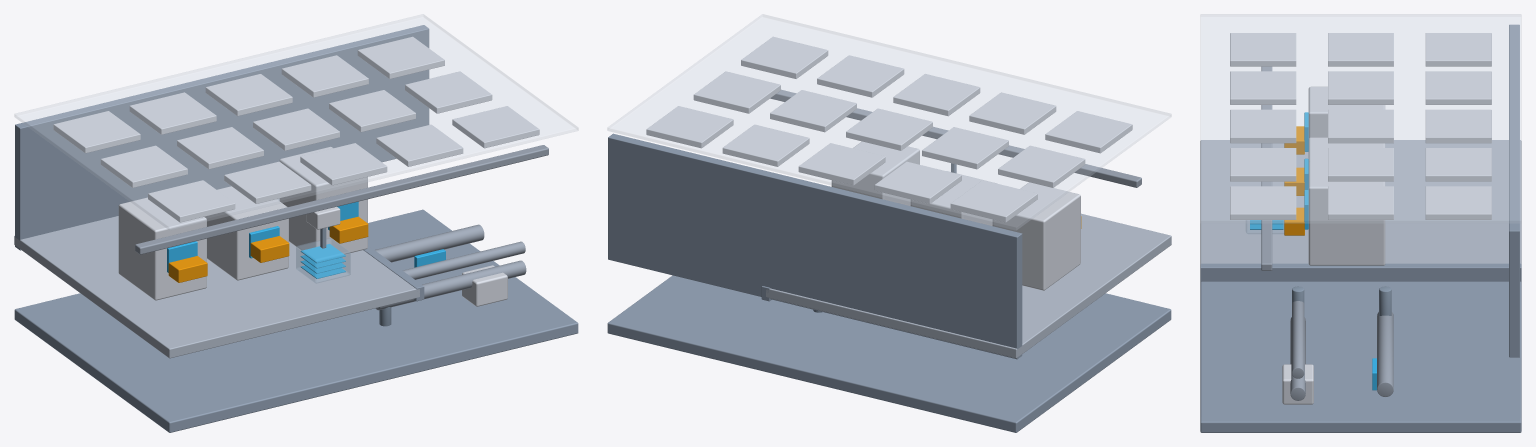
The model's file is fab-section.glb.
3 views of the same model, side by side, from view 1: azimuth 30°, elevation 25°; view 2: azimuth 150°, elevation 25°; view 3: azimuth 270°, elevation 25° (orthographic). The views are drawn at different scales.
Parts seen in each view (by area): view 1: ceil, base, wall, floor, tool, rail, tool.001, tool.002, ffu.001, ffu.008, ffu.012, ffu.005 (+21 smaller); view 2: ceil, wall, base, floor, tool, ffu.001, ffu.006, ffu.014, ffu.003, ffu.008, ffu.002, ffu.005 (+11 smaller); view 3: ceil, base, floor, floor_edge, tool.002, wall, ffu.006, ffu.008, ffu.007, ffu, ffu.002, ffu.003 (+21 smaller).
Boxes of the visible parts, x1=… form: ceil: x1=14, y1=14, x2=578, y2=230; base: x1=14, y1=209, x2=578, y2=432; wall: x1=15, y1=25, x2=429, y2=250; floor: x1=14, y1=198, x2=419, y2=358; tool: x1=118, y1=197, x2=206, y2=300; rail: x1=135, y1=145, x2=548, y2=254; tool.001: x1=204, y1=186, x2=288, y2=280; tool.002: x1=279, y1=146, x2=367, y2=254; ffu.001: x1=100, y1=145, x2=187, y2=187; ffu.008: x1=205, y1=74, x2=292, y2=116; ffu.012: x1=452, y1=106, x2=539, y2=148; ffu.005: x1=129, y1=92, x2=216, y2=134; ceil: x1=607, y1=14, x2=1171, y2=230; wall: x1=608, y1=133, x2=1022, y2=359; base: x1=607, y1=275, x2=1171, y2=432; floor: x1=766, y1=213, x2=1171, y2=358; tool: x1=992, y1=182, x2=1080, y2=290; ffu.001: x1=998, y1=145, x2=1085, y2=187; ffu.006: x1=893, y1=74, x2=980, y2=116; ffu.014: x1=646, y1=106, x2=733, y2=148; ffu.003: x1=969, y1=92, x2=1056, y2=134; ffu.008: x1=798, y1=143, x2=885, y2=185; ffu.002: x1=950, y1=180, x2=1037, y2=222; ffu.005: x1=874, y1=161, x2=961, y2=203; ceil: x1=1200, y1=14, x2=1521, y2=223; base: x1=1200, y1=281, x2=1521, y2=432; floor: x1=1200, y1=140, x2=1521, y2=263; floor_edge: x1=1200, y1=263, x2=1521, y2=281; tool.002: x1=1308, y1=161, x2=1385, y2=265; wall: x1=1509, y1=24, x2=1519, y2=357; ffu.006: x1=1230, y1=109, x2=1296, y2=143; ffu.008: x1=1425, y1=109, x2=1491, y2=143; ffu.007: x1=1328, y1=109, x2=1393, y2=143; ffu: x1=1230, y1=33, x2=1296, y2=66; ffu.002: x1=1425, y1=33, x2=1491, y2=66; ffu.003: x1=1230, y1=71, x2=1296, y2=104.
Bounding box in the file's own units: 7 × 3.37 × 4.6.
